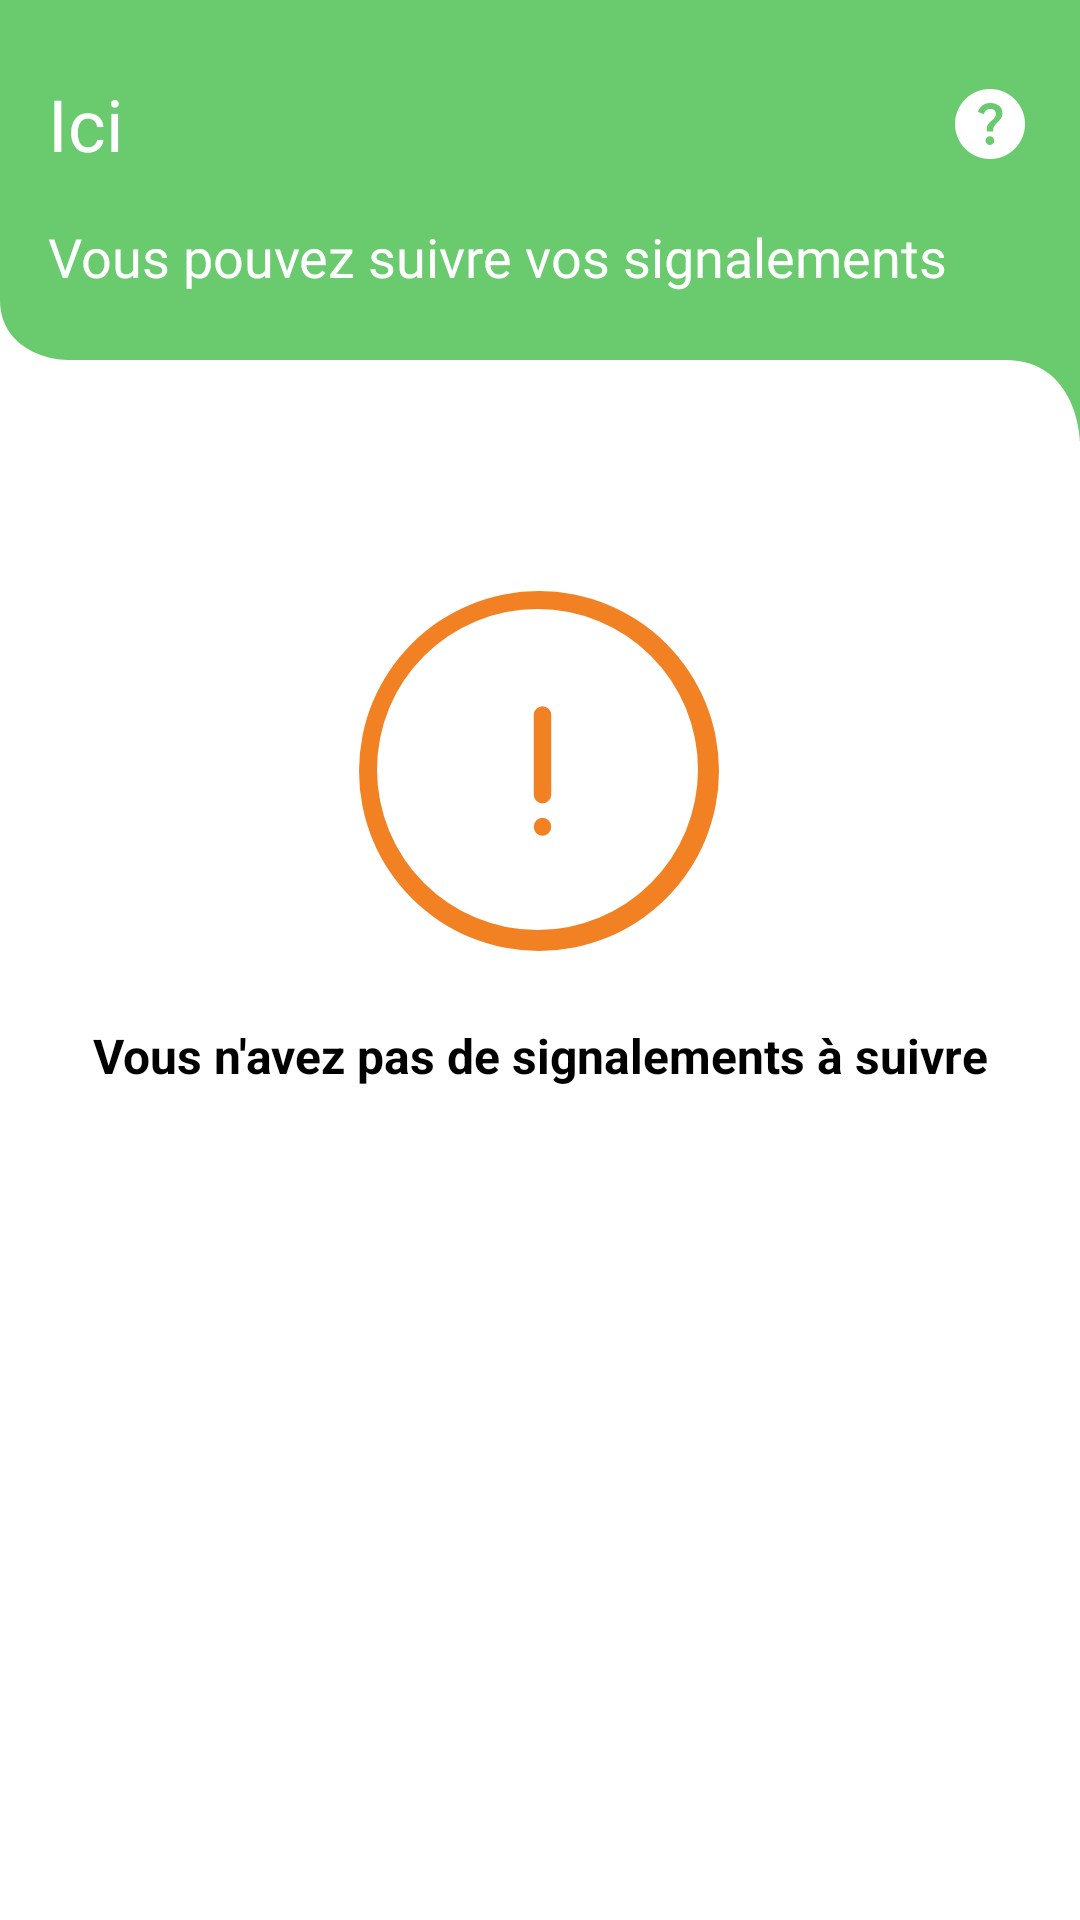

Icon bounding boxes for this 1080 x 1920 phone screenshot, format (x1=x1, y1=y1, x2=x2, y2=y2):
question: (x1=955, y1=89, x2=1025, y2=159)
